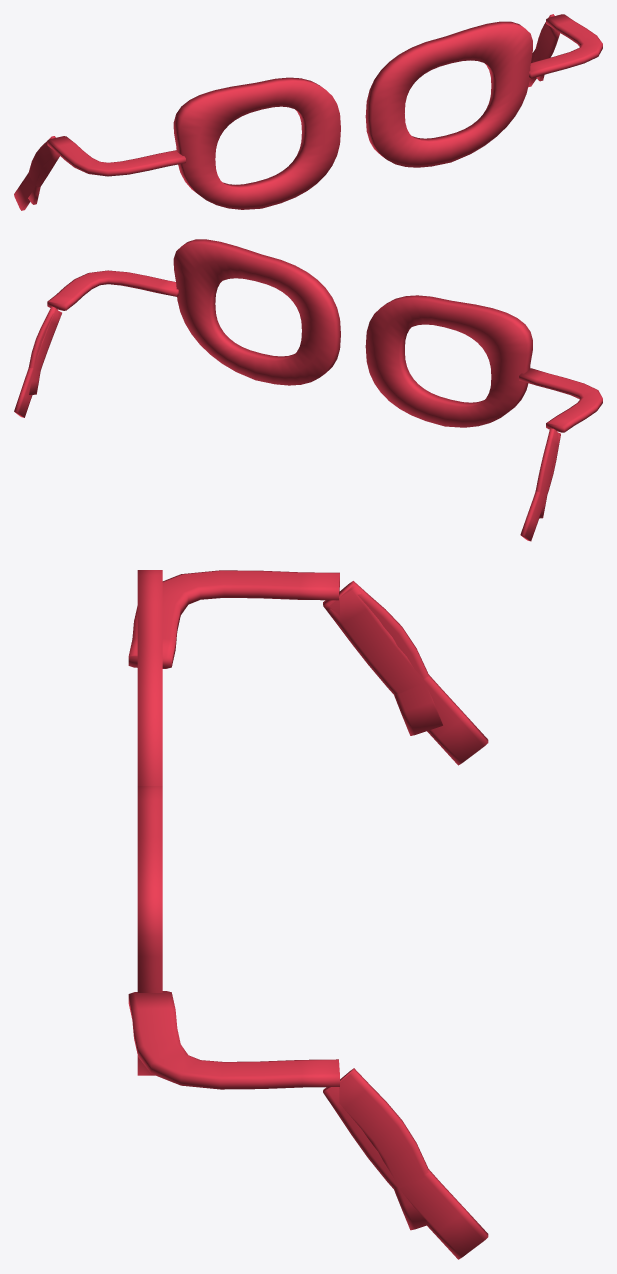
File: hero_mask-chick.glb
3 views of the same model, one above another, from view 1: azimuth 30°, elevation 25°; view 2: azimuth 150°, elevation 25°; view 3: azimuth 270°, elevation 25° (orthographic). The views are drawn at different scales.
Visible parts, largest first — view 1: mask, mask.001, tie.001, tie, tail.003, tail.002, tail.001; view 2: mask, mask.001, tie, tie.001, tail.001, tail.002, tail.003, tail; view 3: tie, tail.003, tie.001, mask.001, mask, tail, tail.001, tail.002.
Boxes of the visible parts, box(x1,y1,x2,y2) form: mask: box(365, 21, 532, 167); mask.001: box(173, 77, 340, 209); tie.001: box(47, 136, 185, 176); tie: box(529, 14, 602, 78); tail.003: box(14, 151, 59, 210); tail.002: box(28, 136, 55, 204); tail.001: box(528, 16, 560, 87); mask: box(173, 239, 340, 385); mask.001: box(365, 295, 532, 427); tie: box(47, 270, 178, 310); tie.001: box(519, 368, 602, 432); tail.001: box(14, 309, 61, 417); tail.002: box(535, 428, 558, 518); tail.003: box(520, 432, 560, 541); tail: box(28, 306, 61, 394); tie: box(128, 991, 339, 1089); tail.003: box(323, 587, 488, 765); tie.001: box(128, 570, 339, 668); mask.001: box(137, 570, 162, 785); mask: box(137, 786, 162, 1075); tail: box(339, 1068, 429, 1230); tail.001: box(323, 1087, 488, 1259); tail.002: box(325, 581, 442, 735).
Size of the model in its own units: 1.35 by 0.3604 by 0.4031.
